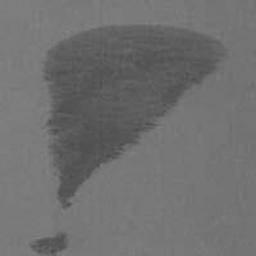Oil spot: (40, 22, 229, 211), (26, 229, 70, 256)
